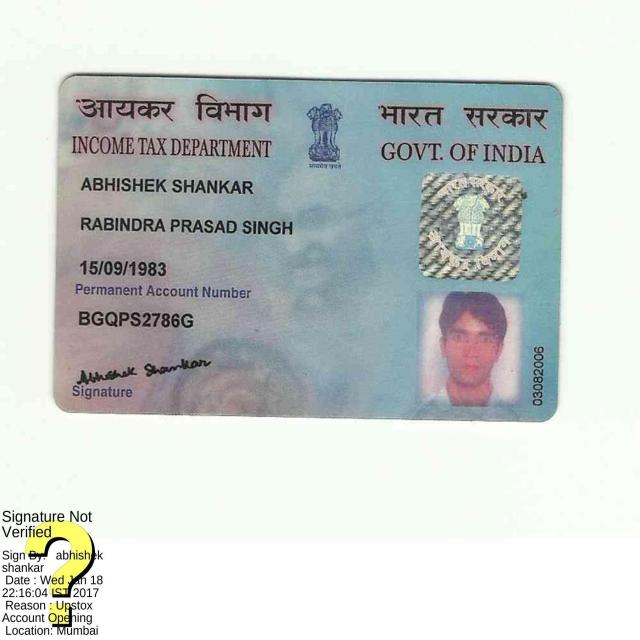pan_card: (58, 77, 558, 423)
